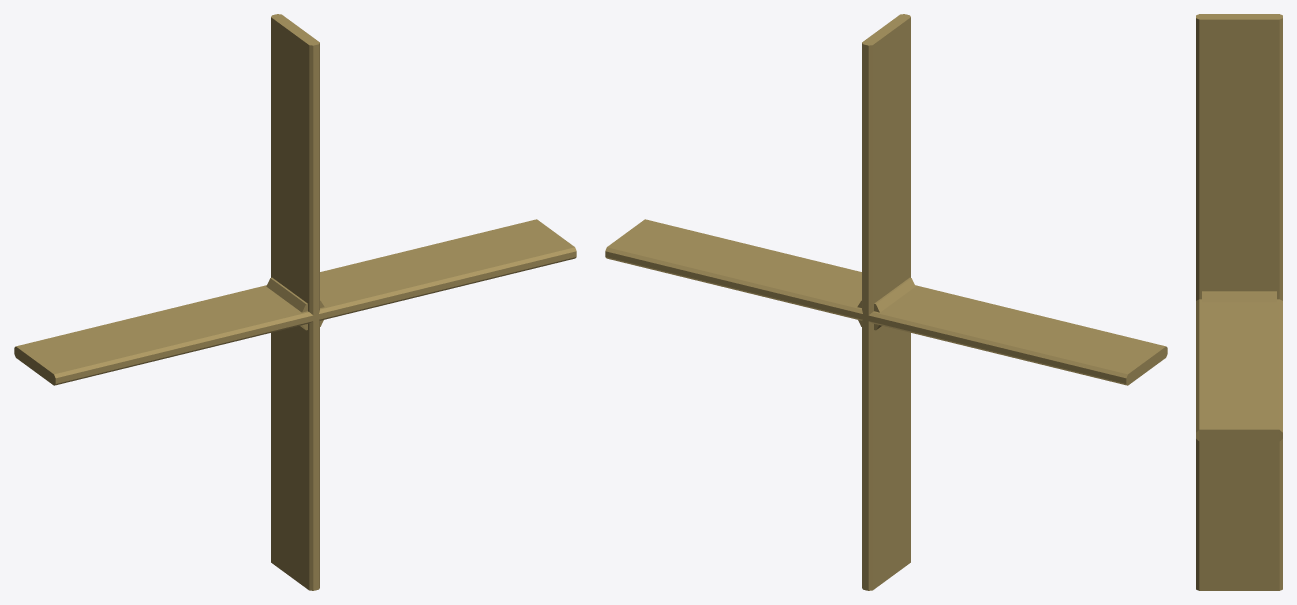
Rendered from Rain_Windmill.fbx.
3 views of the same model, side by side, from view 1: azimuth 30°, elevation 25°; view 2: azimuth 150°, elevation 25°; view 3: azimuth 270°, elevation 25° (orthographic). The views are drawn at different scales.
Visible parts, largest first — view 1: pCube5; view 2: pCube5; view 3: pCube5.
Boxes of the visible parts, x1,y1,x2,y2 form: pCube5: (14,14,576,590); pCube5: (605,14,1167,590); pCube5: (1196,14,1282,590).
Size of the model in its own units: 21.33 by 21.33 by 2.93.
